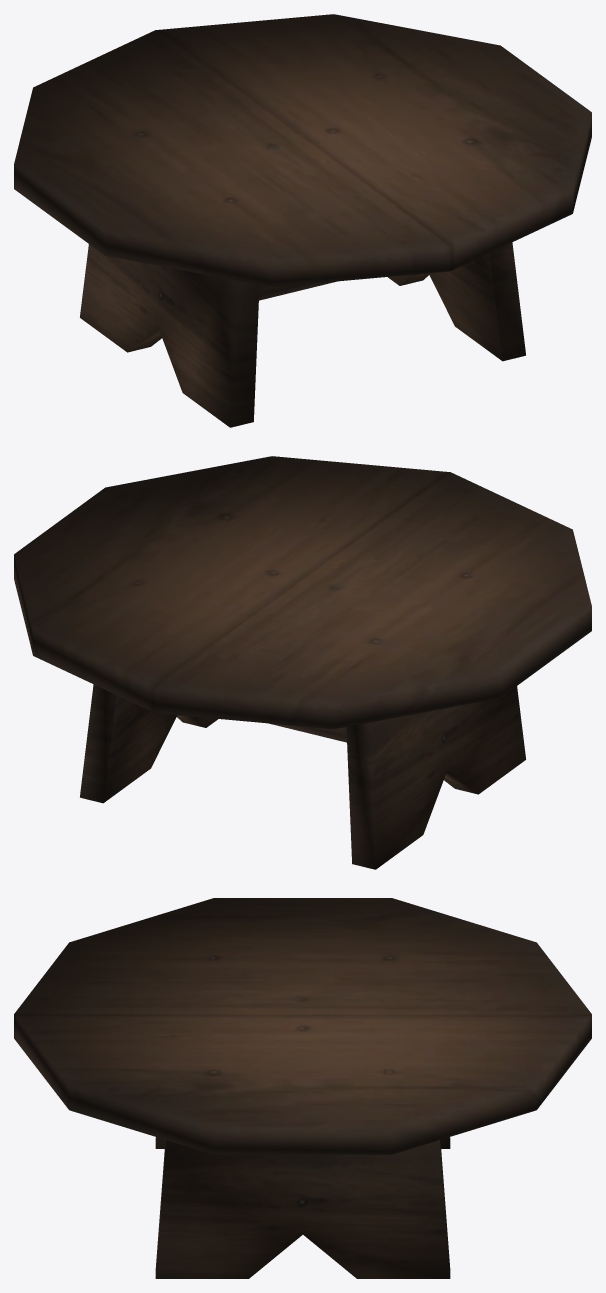
File: Tv_Table_Round.glb
3 views of the same model, one above another, from view 1: azimuth 30°, elevation 25°; view 2: azimuth 150°, elevation 25°; view 3: azimuth 270°, elevation 25° (orthographic). The views are drawn at different scales.
Parts seen in each view (by area): view 1: table_wood_round; view 2: table_wood_round; view 3: table_wood_round.
Part boxes in pixels (x1,y1,x2,y2): table_wood_round: [14, 14, 591, 427]; table_wood_round: [14, 456, 591, 869]; table_wood_round: [14, 898, 591, 1278].
Bounding box in the file's own units: 1.93 × 0.75 × 2.02.
Materials: 1 (1 with a texture image).
